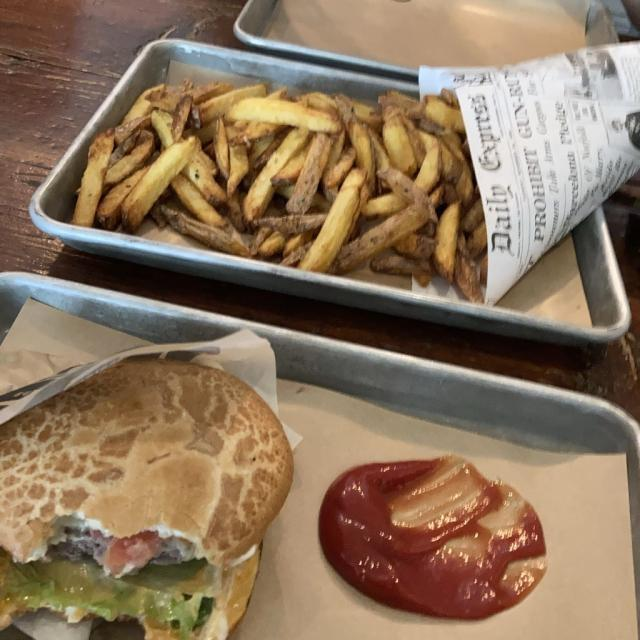chips-french-fries: (73, 81, 481, 278)
hamburger: (2, 365, 292, 631)
ketchup: (322, 460, 543, 618)
